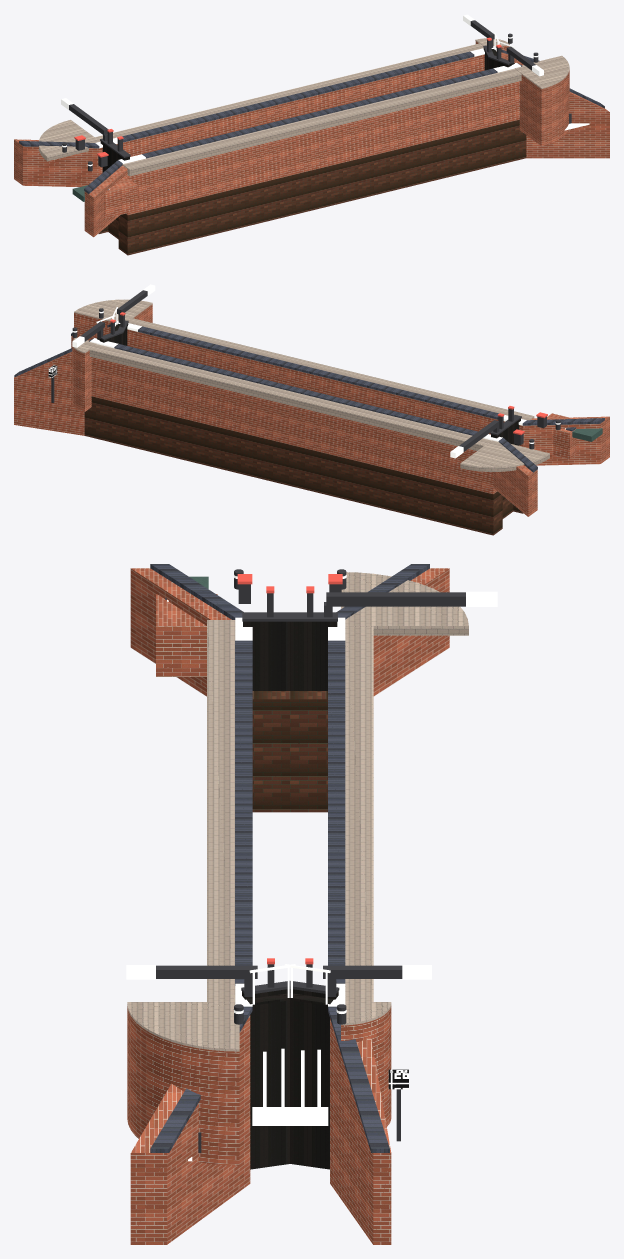
Rendered from lock-26.glb.
The picture shows the model from 3 angles, top to bottom: view 1: azimuth 30°, elevation 25°; view 2: azimuth 150°, elevation 25°; view 3: azimuth 270°, elevation 25°; orthographic projection. The views are drawn at different scales.
Visible parts, largest first — view 1: Chamber, ChamberWet, Edge, Coping.001, TopGateCap, Coping, TopGate; view 2: Chamber, ChamberWet, Edge, Coping.001, TopGateCap, Coping, TopGate; view 3: Chamber, Edge, Coping.001, TopGate, ChamberWet, TopGateCap, Coping, Leak.
Boxes of the visible parts, <box> form: Chamber: <box>14,41,609,237</box>; ChamberWet: <box>98,119,526,255</box>; Edge: <box>39,38,569,176</box>; Coping.001: <box>19,47,604,193</box>; TopGateCap: <box>62,20,571,171</box>; Coping: <box>61,14,543,166</box>; TopGate: <box>100,48,514,172</box>; Chamber: <box>14,304,609,516</box>; ChamberWet: <box>84,396,523,535</box>; Edge: <box>72,299,549,471</box>; Coping.001: <box>14,322,604,472</box>; TopGateCap: <box>51,290,560,451</box>; Coping: <box>72,284,560,458</box>; TopGate: <box>97,323,520,445</box>; Chamber: <box>127,568,449,1244</box>; Edge: <box>127,572,468,1051</box>; Coping.001: <box>150,564,429,1152</box>; TopGate: <box>242,621,338,1169</box>; ChamberWet: <box>252,691,327,812</box>; TopGateCap: <box>156,569,465,1152</box>; Coping: <box>126,574,497,1013</box>; Leak: <box>167,599,328,1161</box>.
Bounding box in the file's own units: 33 × 6.47 × 10.24.
11 materials, 8 textured.
